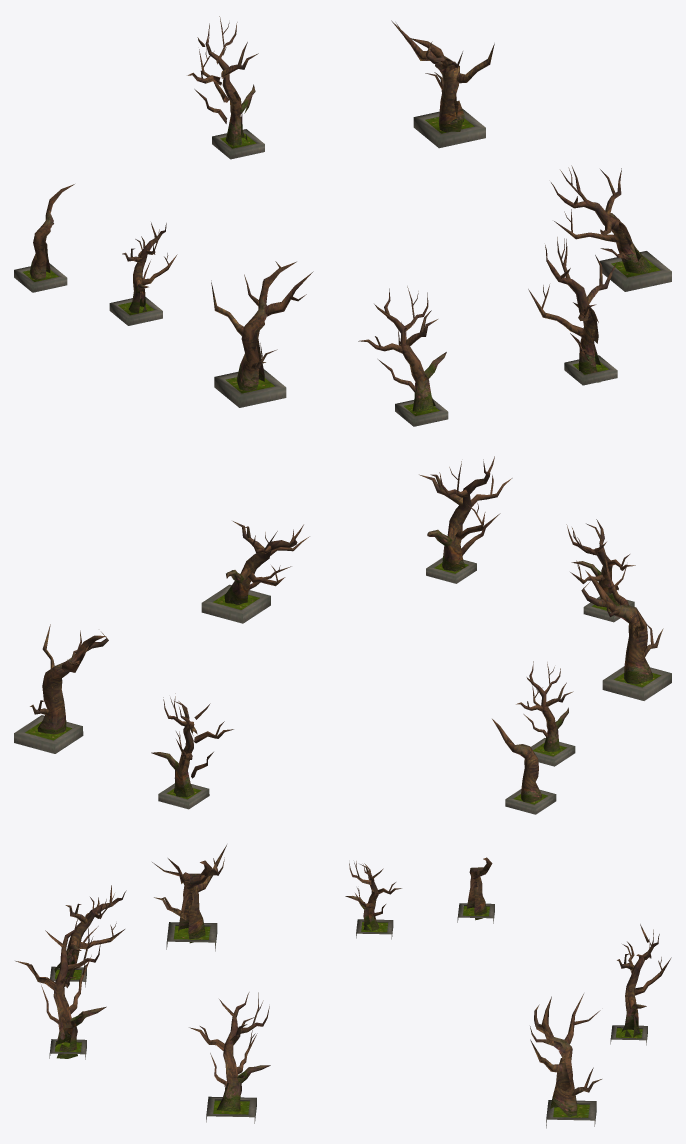
Rendered from 1v1_01_plant_01.FBX.
3 views of the same model, one above another, from view 1: azimuth 30°, elevation 25°; view 2: azimuth 150°, elevation 25°; view 3: azimuth 270°, elevation 25° (orthographic). The views are drawn at different scales.
Visible parts, largest first — view 1: plant, shumugeng; view 2: plant, shumugeng; view 3: plant, shumugeng.
Part boxes in pixels (x1=…): plant: x1=14, y1=20, x2=671, y2=426; shumugeng: x1=187, y1=16, x2=264, y2=159; plant: x1=14, y1=456, x2=671, y2=814; shumugeng: x1=151, y1=693, x2=233, y2=809; plant: x1=15, y1=845, x2=601, y2=1128; shumugeng: x1=610, y1=924, x2=671, y2=1045.
Size of the model in its own units: 82.31 by 21.94 by 106.
